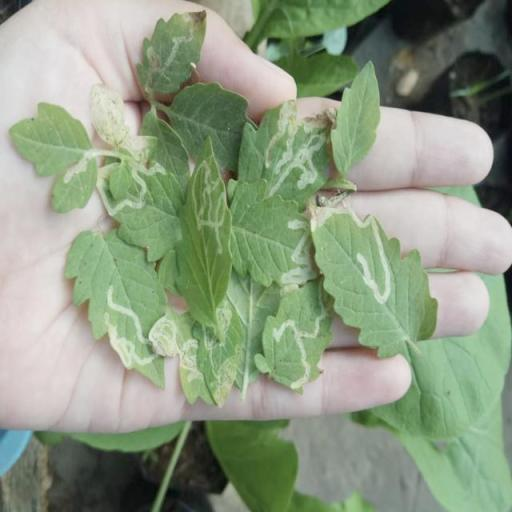Healthy: (330, 58, 380, 178)
Leaf Miner: (310, 203, 440, 361), (66, 230, 168, 394), (176, 133, 232, 321), (250, 276, 334, 395), (8, 102, 98, 212), (262, 97, 330, 199), (134, 8, 208, 96), (194, 301, 244, 408)
